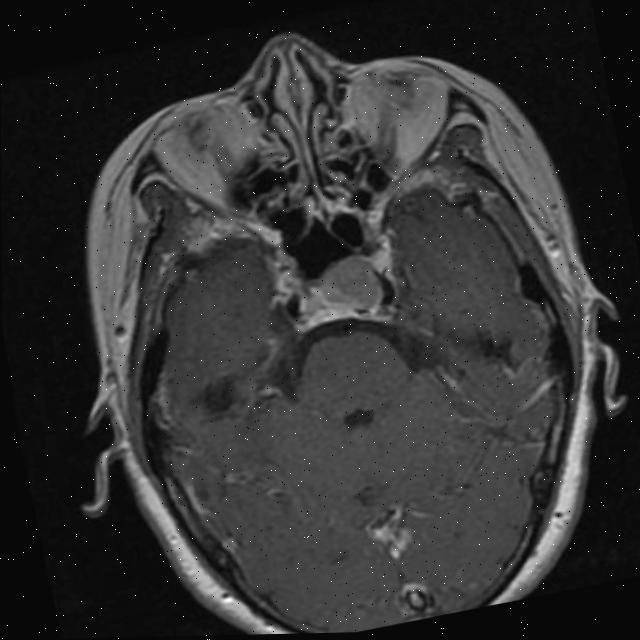Pituitary: (310, 250, 389, 327)
